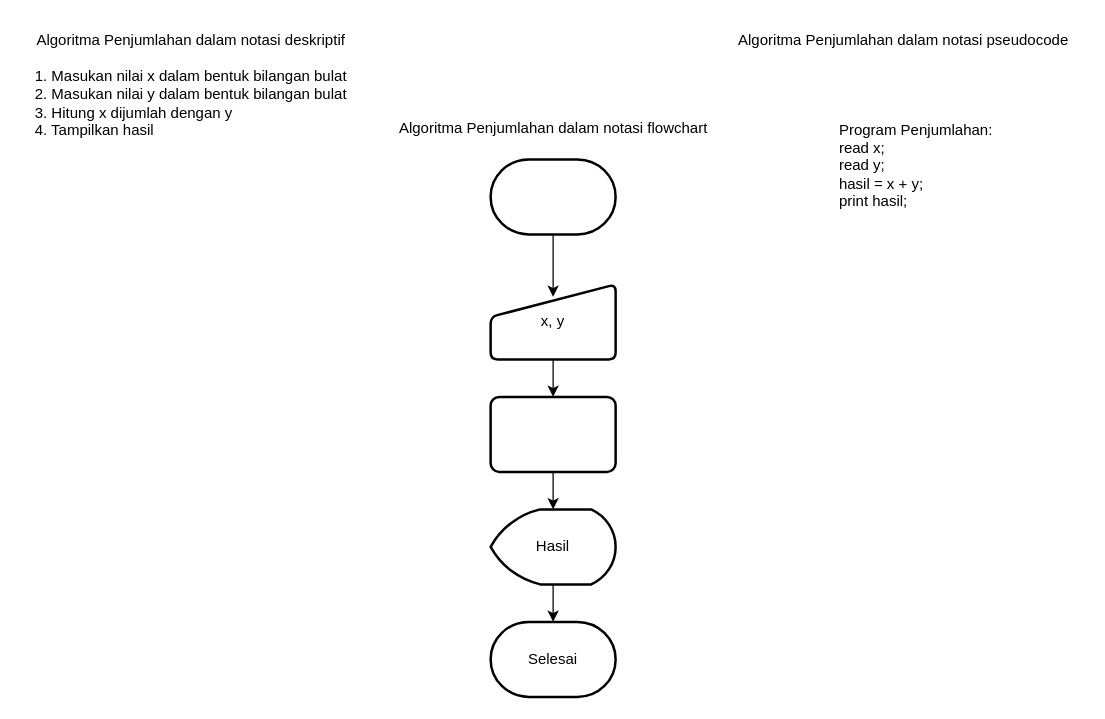
Image size: 1105x719. Some labels were removed from this diagram. The shapes that lost their labels are listed below. From the top down, each one's box as (x1, y1, x2, y2) in pixels, then its label:
(489, 158, 616, 235): Mulai
(489, 395, 616, 472): hasil = x + y
